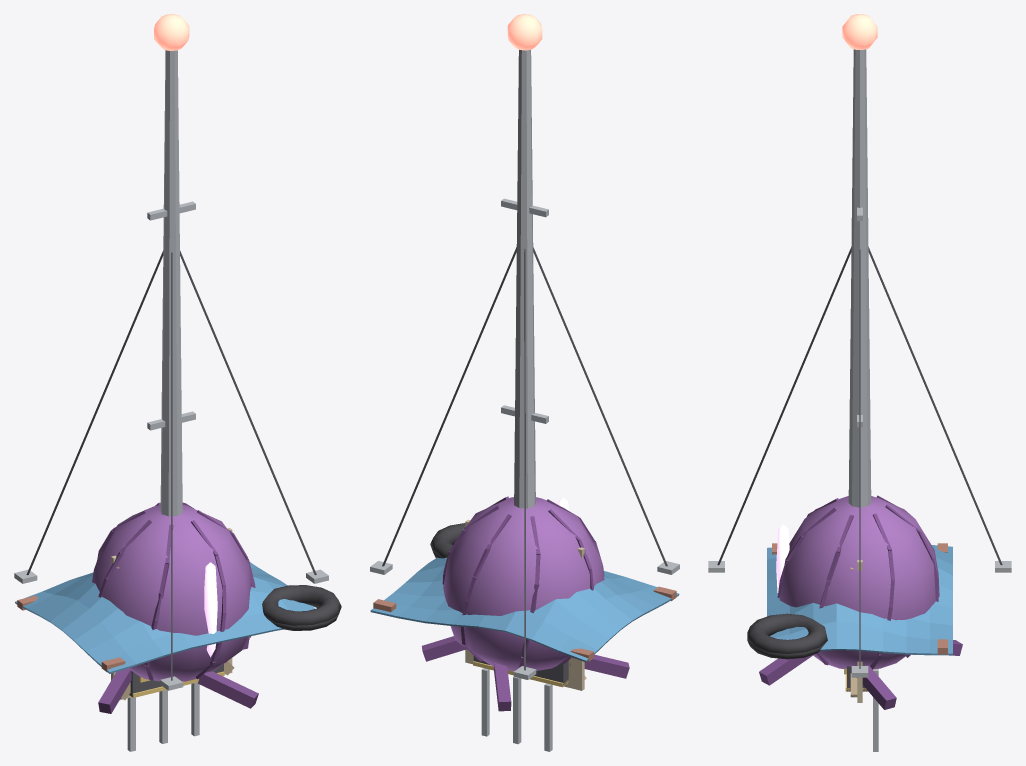
Rendered from roof_extras2.glb.
The picture shows the model from 3 angles, left to right: view 1: azimuth 30°, elevation 25°; view 2: azimuth 150°, elevation 25°; view 3: azimuth 270°, elevation 25°; orthographic projection.
Visible parts, largest first — view 1: rx_pod_mesh, rx_mast_mesh, rx_tarp_mesh, rx_crownsign_mesh; view 2: rx_pod_mesh, rx_mast_mesh, rx_tarp_mesh, rx_crownsign_mesh, rx_ply_mesh; view 3: rx_pod_mesh, rx_mast_mesh, rx_tarp_mesh, rx_crownsign_mesh.
Boxes of the visible parts, bbox=[...] form: rx_pod_mesh: bbox=[92, 502, 258, 713]; rx_mast_mesh: bbox=[14, 14, 328, 690]; rx_tarp_mesh: bbox=[15, 562, 341, 673]; rx_crownsign_mesh: bbox=[127, 664, 224, 751]; rx_pod_mesh: bbox=[421, 496, 629, 711]; rx_mast_mesh: bbox=[370, 14, 679, 679]; rx_tarp_mesh: bbox=[370, 523, 679, 662]; rx_crownsign_mesh: bbox=[473, 656, 568, 751]; rx_ply_mesh: bbox=[465, 519, 586, 690]; rx_pod_mesh: bbox=[759, 495, 962, 709]; rx_mast_mesh: bbox=[708, 14, 1011, 677]; rx_tarp_mesh: bbox=[747, 543, 952, 659]; rx_crownsign_mesh: bbox=[844, 666, 878, 751].
Bounding box in the file's own units: 2.88 × 7.68 × 2.93.
